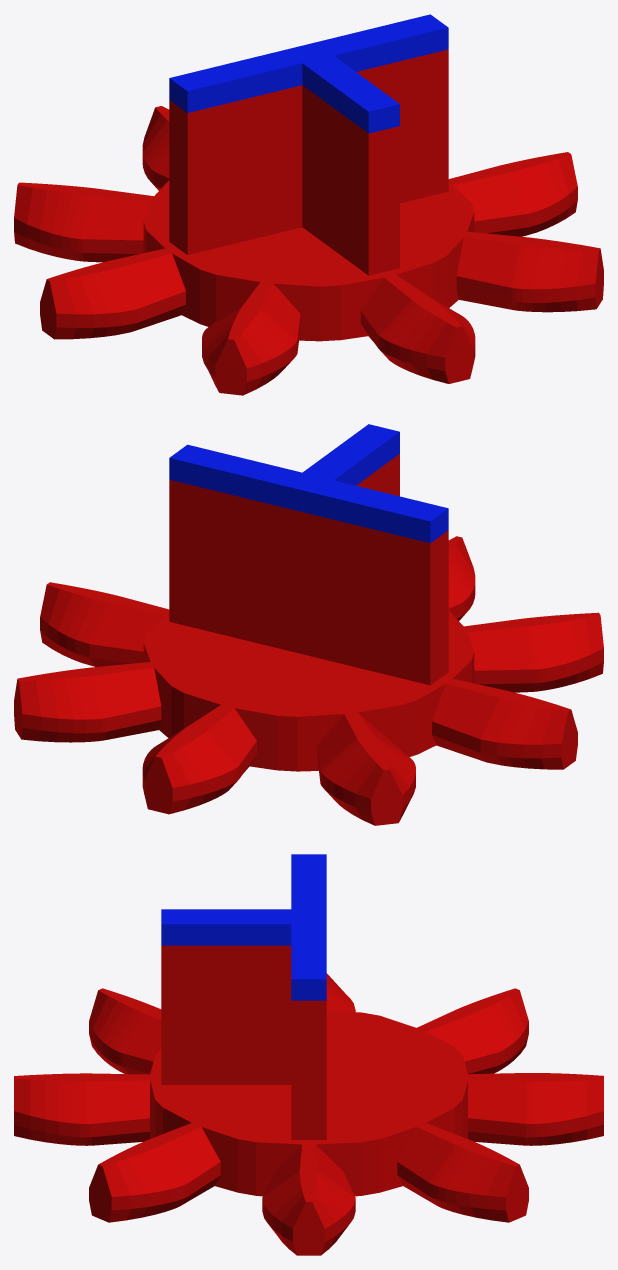
The model's file is gears-GearBlue.glb.
3 renders of one model, top to bottom at view 1: azimuth 30°, elevation 25°; view 2: azimuth 150°, elevation 25°; view 3: azimuth 270°, elevation 25°, orthographic. The views are drawn at different scales.
Visible parts, largest first — view 1: Gear.002; view 2: Gear.002; view 3: Gear.002.
Part boxes in pixels (box(x1,y1,x2,y2)): Gear.002: box(14, 14, 603, 395); Gear.002: box(14, 424, 603, 825); Gear.002: box(14, 854, 603, 1255).
Size of the model in its own units: 0.0999 by 0.04 by 0.0999.
